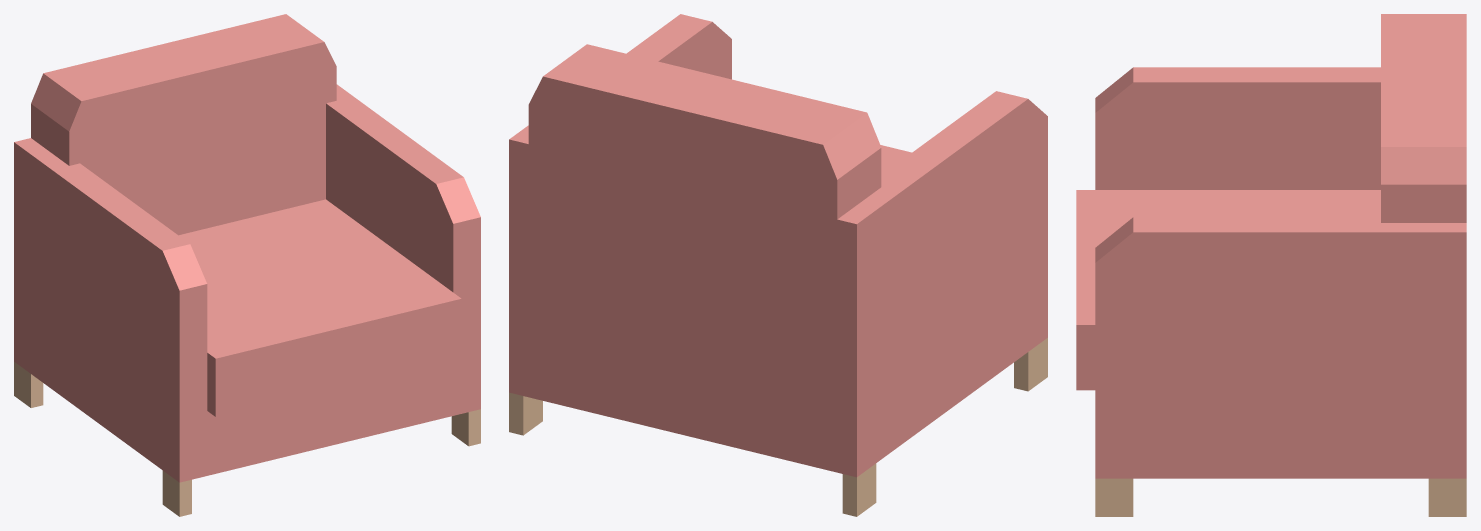
The model's file is kn-lounge-sofa.glb.
3 renders of one model, left to right at view 1: azimuth 30°, elevation 25°; view 2: azimuth 150°, elevation 25°; view 3: azimuth 270°, elevation 25°, orthographic. The views are drawn at different scales.
Parts seen in each view (by area): view 1: loungeSofa(Clone); view 2: loungeSofa(Clone); view 3: loungeSofa(Clone).
Boxes of the visible parts, box(x1,y1,x2,y2) form: loungeSofa(Clone): box(14, 14, 480, 516); loungeSofa(Clone): box(509, 14, 1047, 516); loungeSofa(Clone): box(1076, 14, 1466, 516).
Size of the model in its own units: 1 by 1 by 1.
